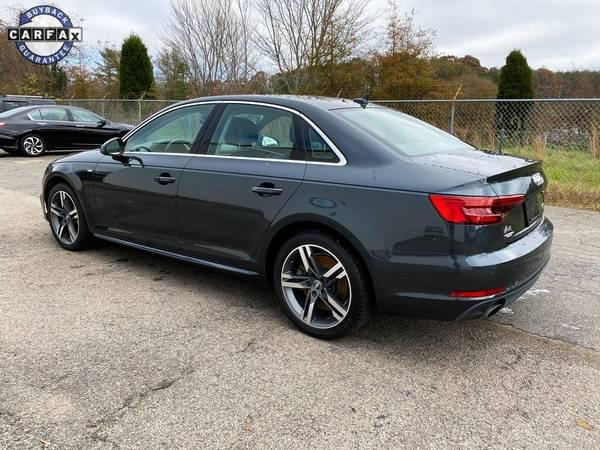Front_Fender: (41, 154, 105, 233)
Front_Left_Door: (94, 151, 193, 259)
Front_Left_Window: (115, 103, 222, 153)
Left_Taillight: (427, 188, 524, 223)
Rear_Bumper: (366, 217, 560, 322)
Rear_Fender: (278, 118, 500, 252)
Rear_Left_Door: (176, 154, 306, 279)
Rear_Left_Window: (195, 101, 309, 161)
Rear_Windshield: (322, 100, 466, 153)
Roof: (113, 90, 398, 162)
Tailgate: (404, 143, 550, 234)
Wheel: (273, 234, 365, 336), (46, 186, 83, 247)
